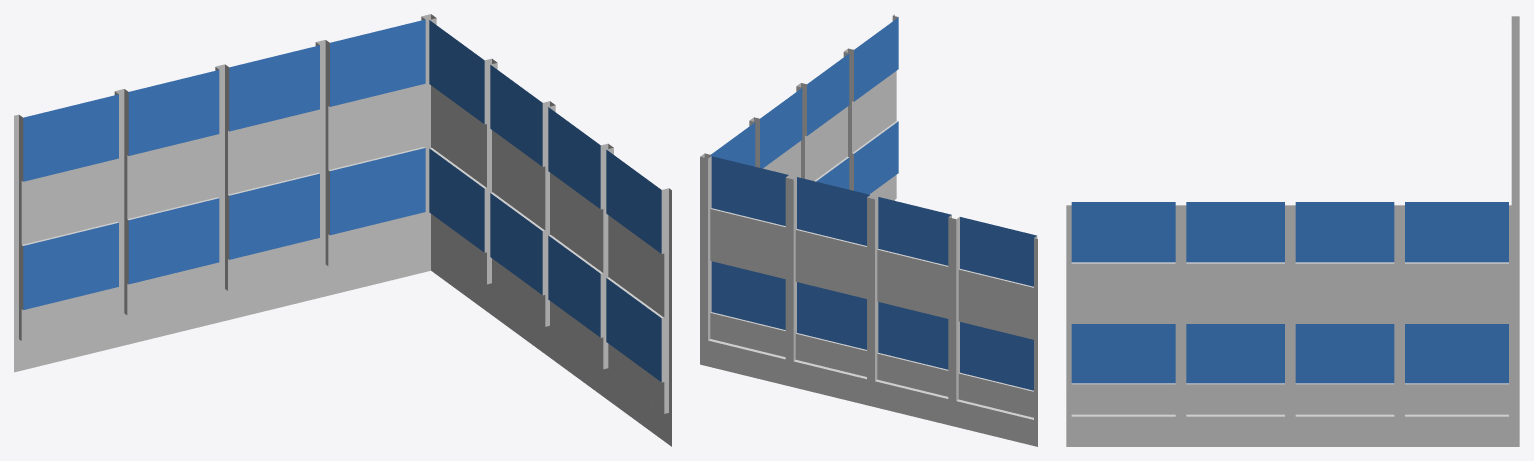
3 views of the same model, side by side, from view 1: azimuth 30°, elevation 25°; view 2: azimuth 150°, elevation 25°; view 3: azimuth 270°, elevation 25° (orthographic). The views are drawn at different scales.
Visible parts, largest first — view 1: 01a_Base; view 2: 01a_Base; view 3: 01a_Base.
Part boxes in pixels (<box>): 01a_Base: <box>14,14,671,446</box>; 01a_Base: <box>700,14,1037,446</box>; 01a_Base: <box>1066,16,1519,446</box>.
Size of the model in its own units: 42.5 by 25 by 42.5.
